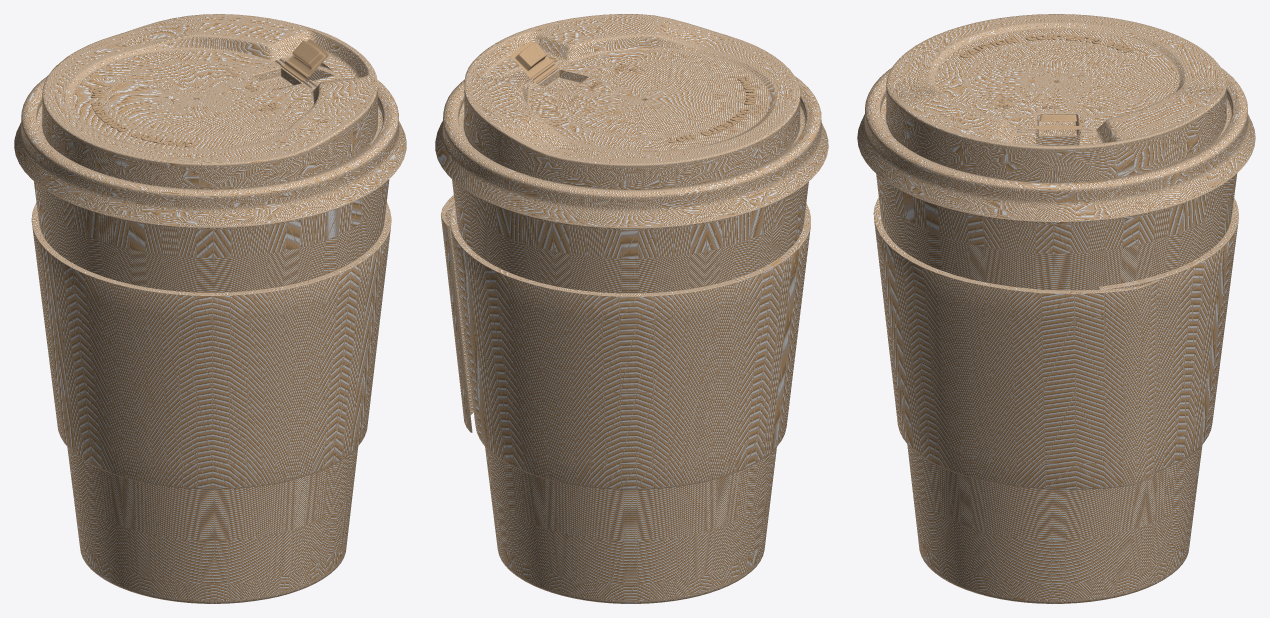
The model's file is CoffeeCup.gltf.
3 renders of one model, left to right at view 1: azimuth 30°, elevation 25°; view 2: azimuth 150°, elevation 25°; view 3: azimuth 270°, elevation 25°, orthographic.
Visible parts, largest first — view 1: CoffeeCup; view 2: CoffeeCup; view 3: CoffeeCup.
Boxes of the visible parts, x1,y1,x2,y2 form: CoffeeCup: (14, 14, 406, 603); CoffeeCup: (435, 14, 828, 603); CoffeeCup: (857, 14, 1255, 603).
Bounding box in the file's own units: 6.39 × 8.55 × 6.39.
